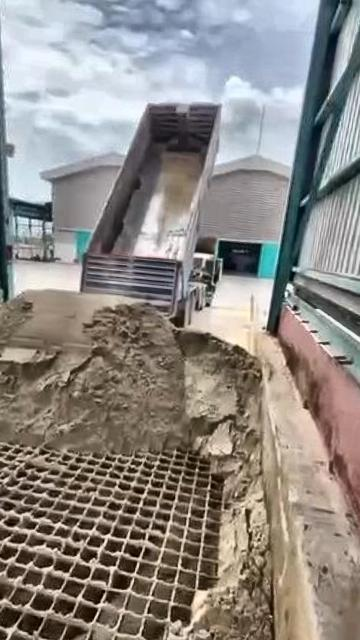sand: (0, 291, 271, 640)
